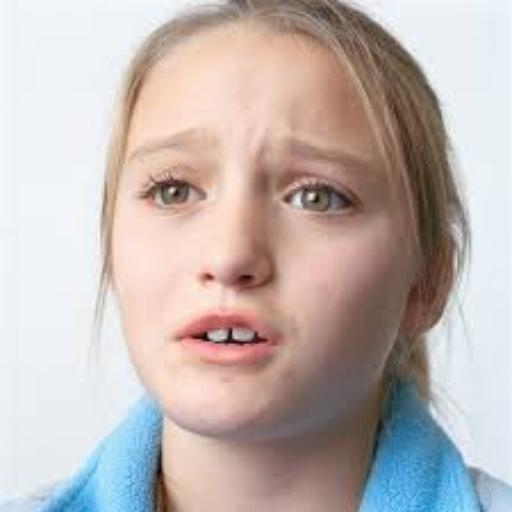left_eye: (283, 184, 362, 219)
left_lip_corner: (268, 326, 295, 356)
right_eye: (141, 178, 211, 211)
right_lip_corner: (161, 326, 190, 352)
